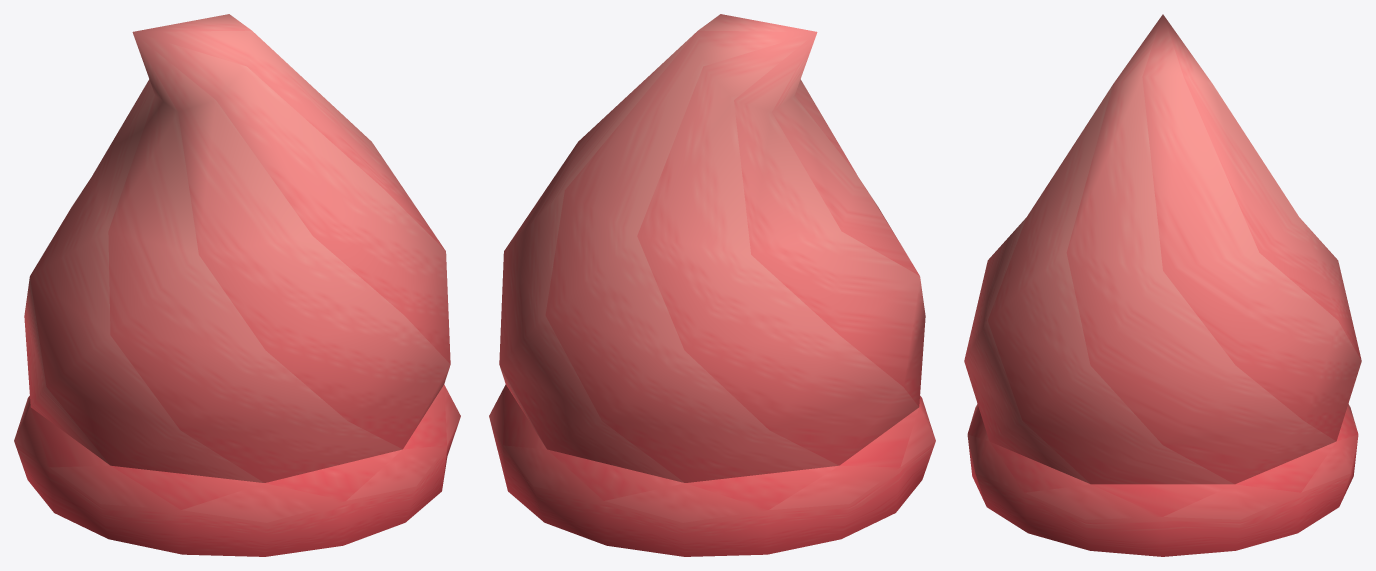
The model's file is icecream_softserve_icecream_strawberry.gltf.
The picture shows the model from 3 angles, left to right: view 1: azimuth 30°, elevation 25°; view 2: azimuth 150°, elevation 25°; view 3: azimuth 270°, elevation 25°; orthographic projection. The views are drawn at different scales.
Parts seen in each view (by area): view 1: icecream_softserve_icecream_strawberry; view 2: icecream_softserve_icecream_strawberry; view 3: icecream_softserve_icecream_strawberry.
Part boxes in pixels (x1,y1,x2,y2): icecream_softserve_icecream_strawberry: (14,14,460,556); icecream_softserve_icecream_strawberry: (489,14,935,556); icecream_softserve_icecream_strawberry: (964,14,1361,556).
Size of the model in its own units: 0.4499 by 0.5359 by 0.45.
1 material, 1 textured.
